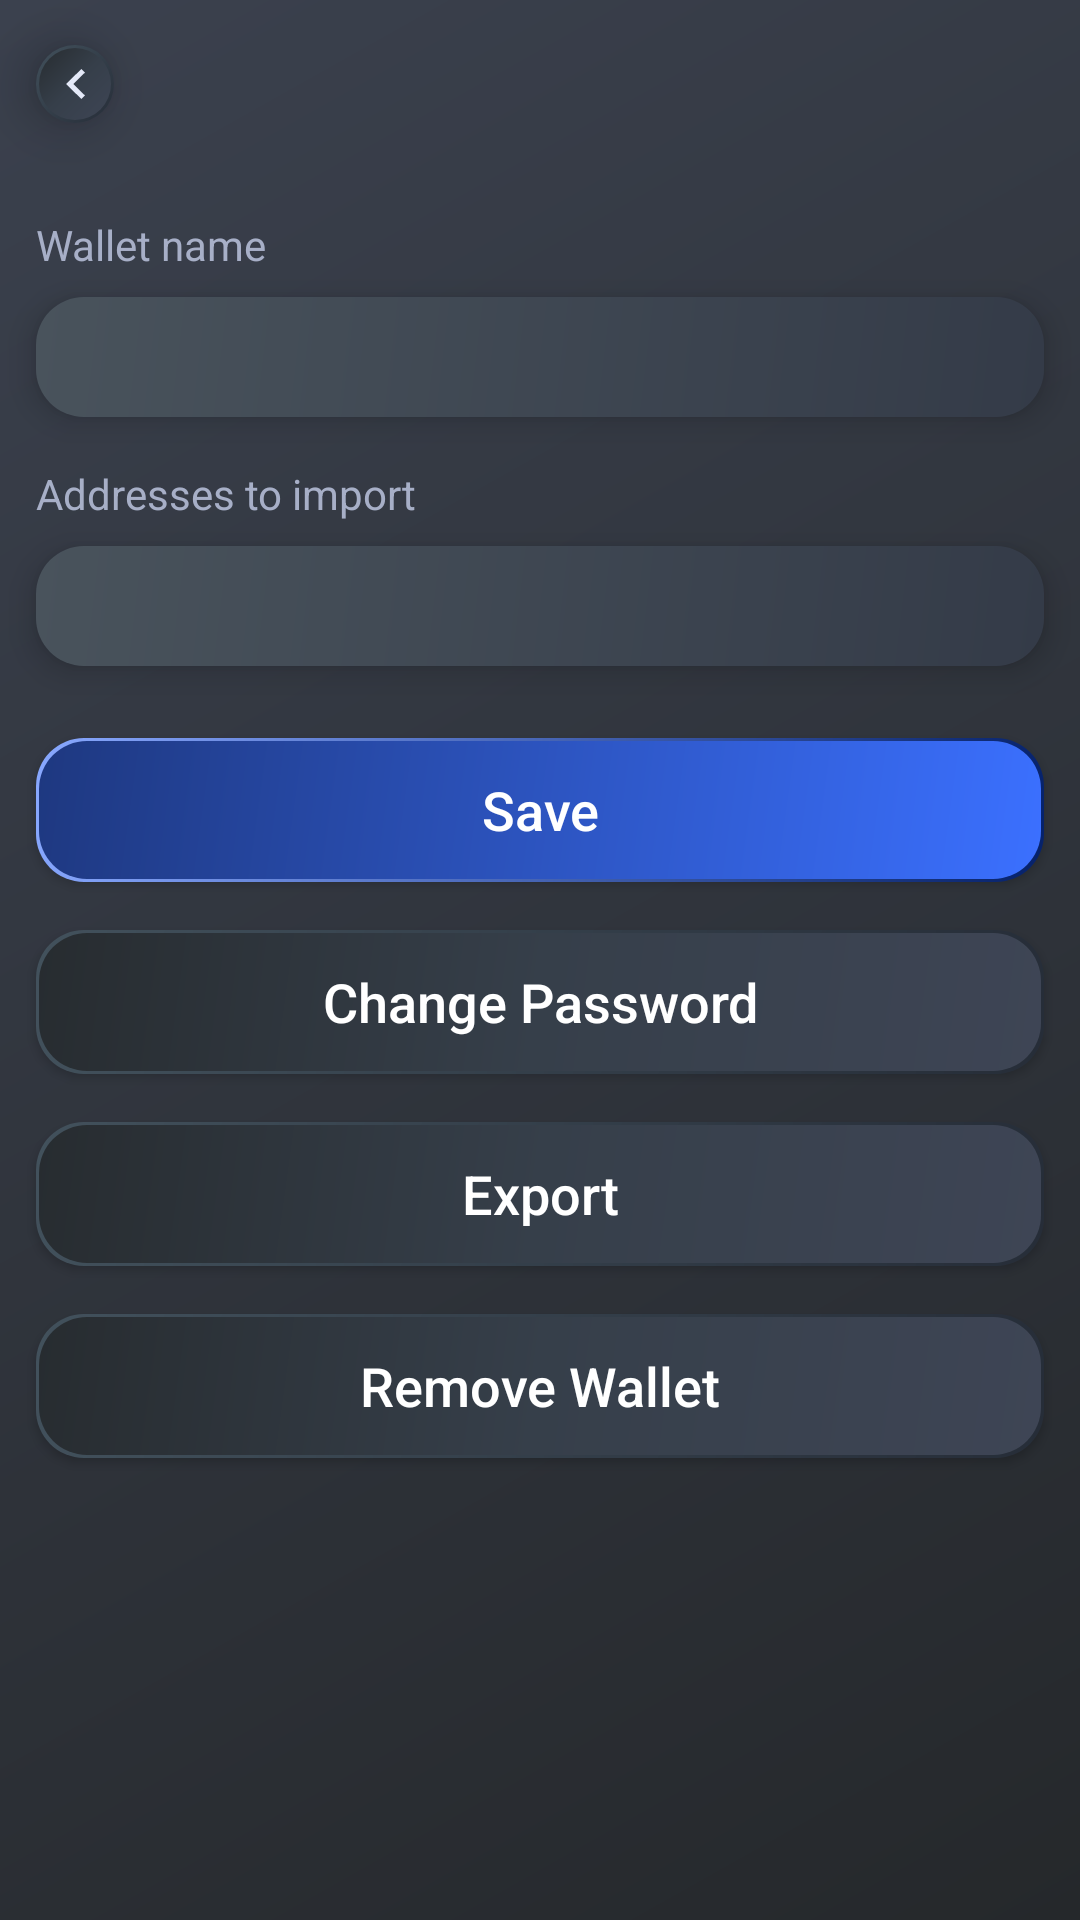

Point at icon controls on the screen. Image size 1080px×1920px, points as point (x, y).
back: point (75, 84)
